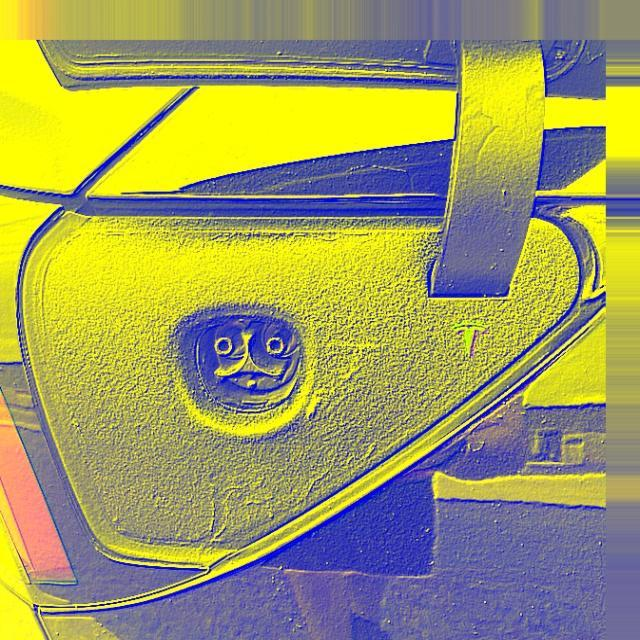Tesla Model-S-: (155, 288, 326, 456)
